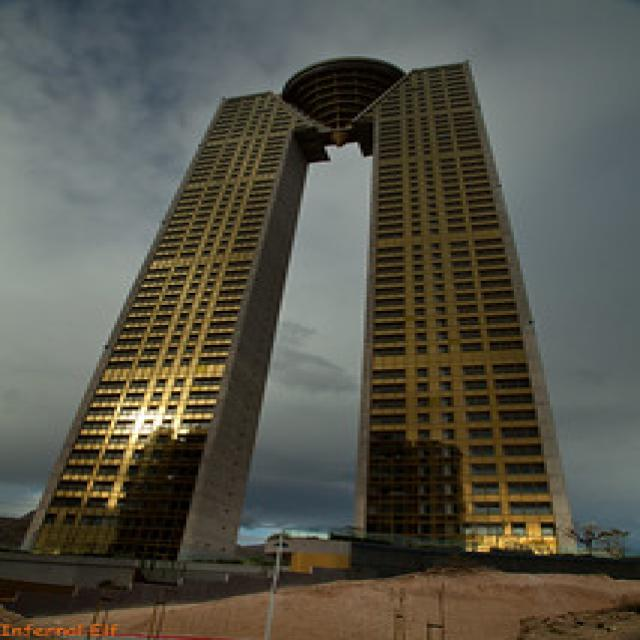Normal_building: (15, 44, 592, 570)
